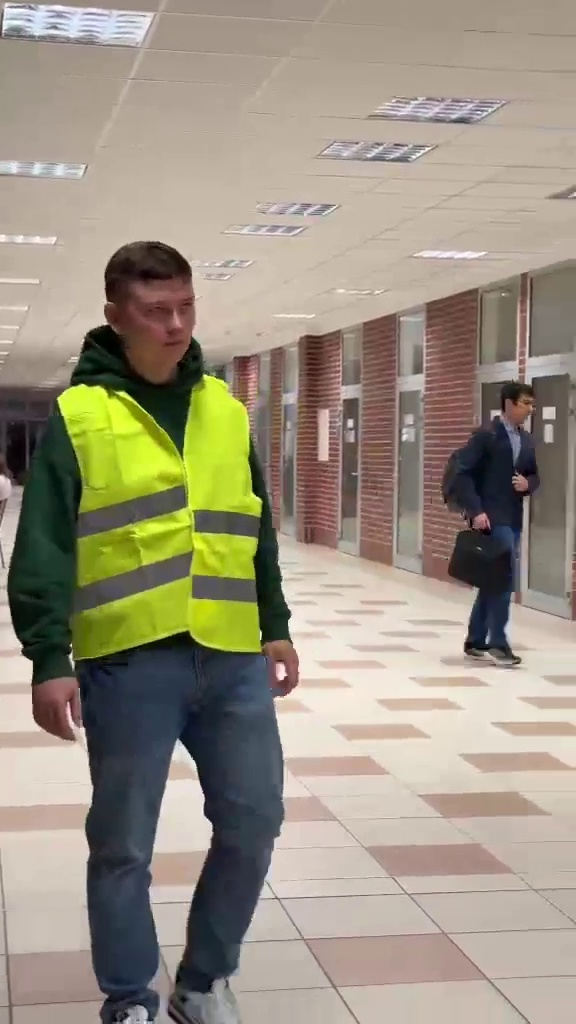no vest: (444, 385, 548, 673)
vest: (10, 232, 301, 1018)
